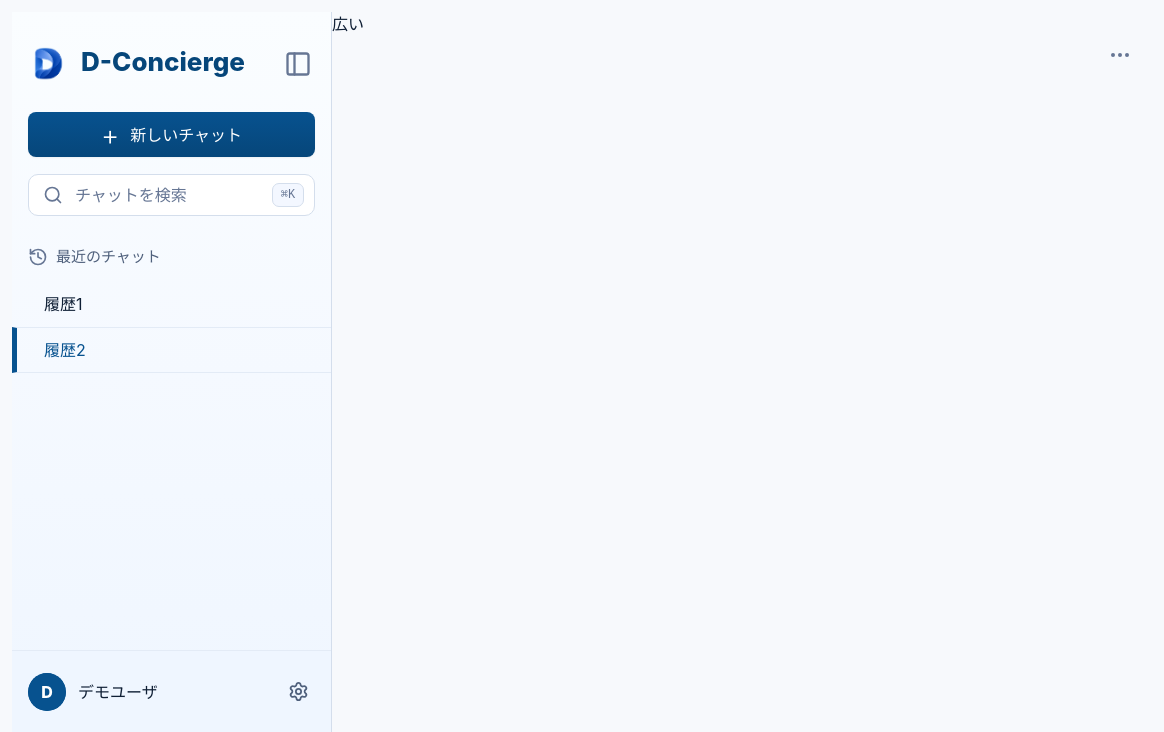
Test: frontend components › 観点：AppShellとSidebar。確認：履歴、新規開始、折りたたみ表示を切り替える。
This screenshot has width=1164, height=732.
Click the button "履歴1" at {"x": 63, "y": 304}, box [12, 281, 331, 327]
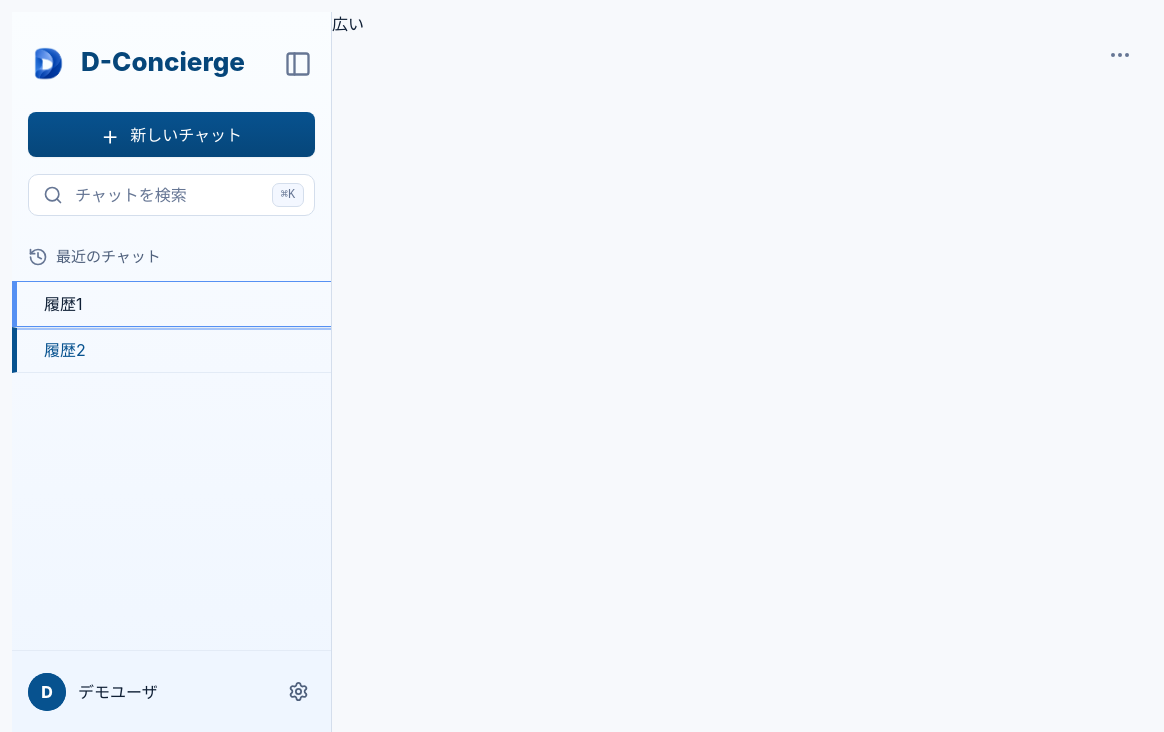
Click the button "+ 新しいチャット" at {"x": 172, "y": 134}, box [28, 112, 315, 157]
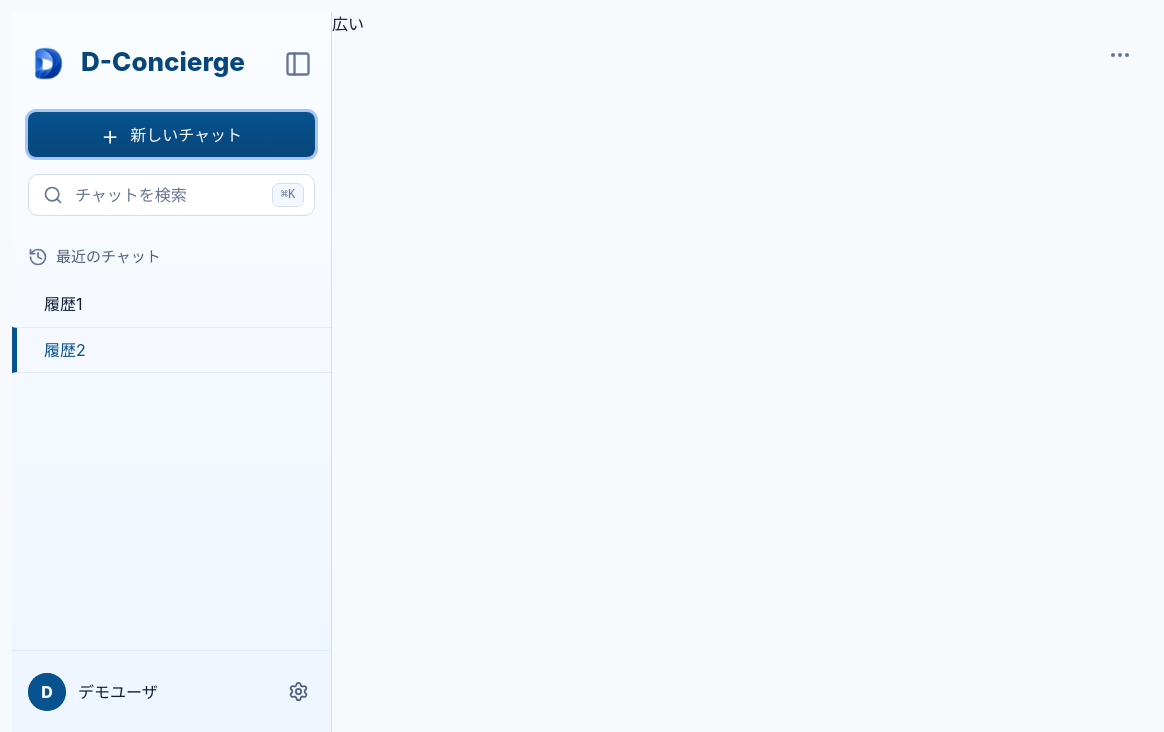
Click the button named "サイドバー切替" at {"x": 298, "y": 64}, box [281, 47, 315, 81]
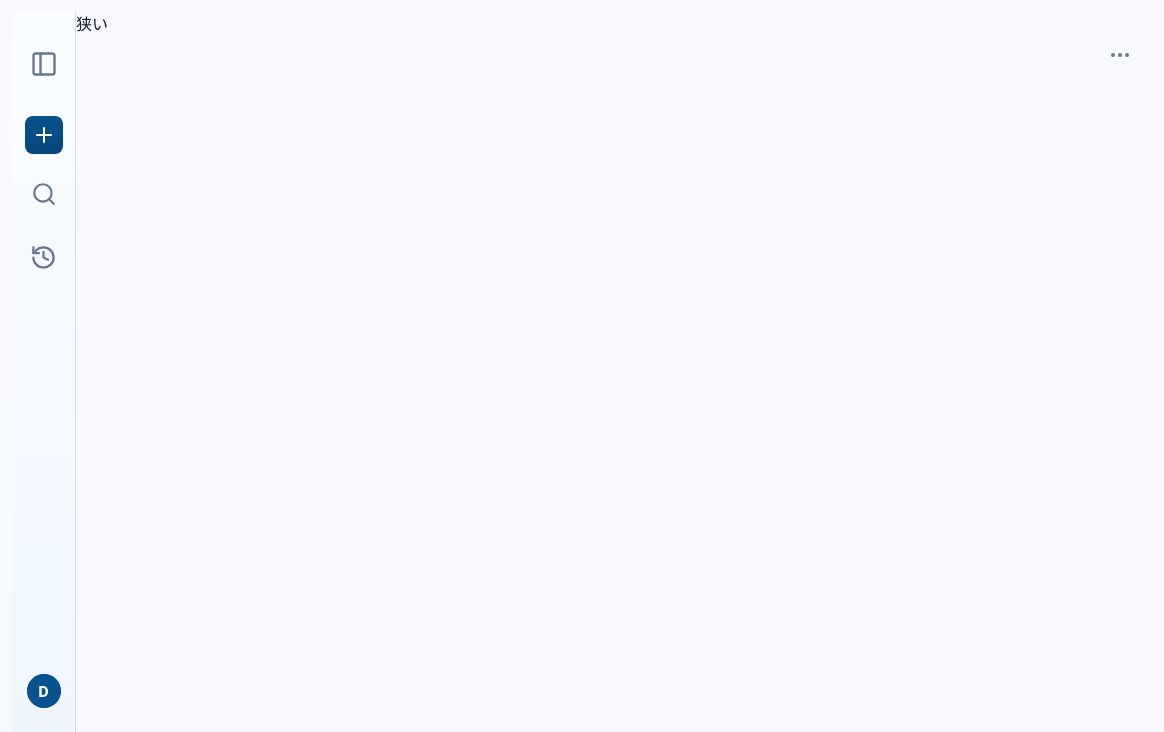
Result: the element named "折りたたみサイドバー" is shown at [12, 12, 76, 731]
Result: the text "狭い" is shown at [76, 14, 108, 34]
